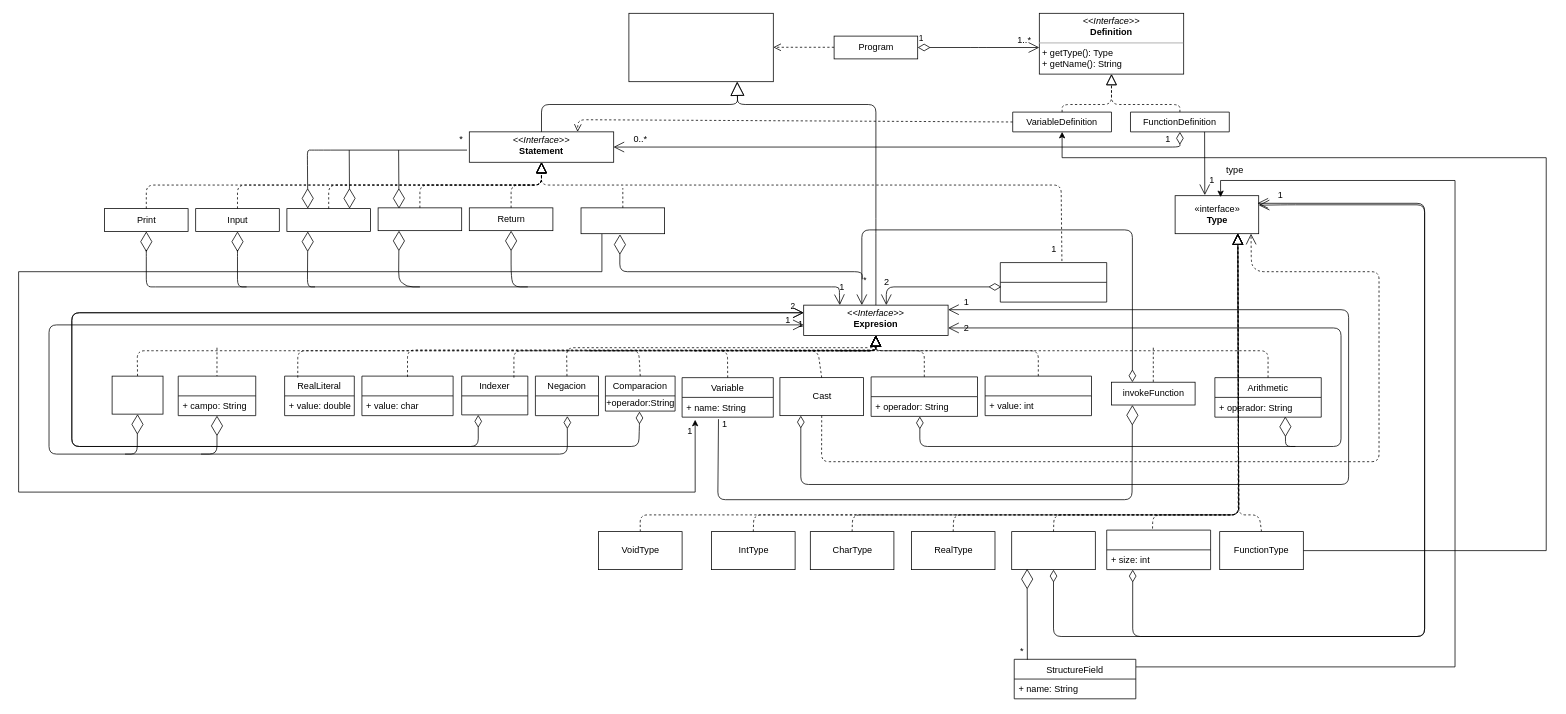
The diagram is 1566 pixels wide and 714 high, and some of its shapes have lost their labels. Here are the shapes that lost their labels. From the top down, the box of each, then its label:
(628, 13, 773, 82): <<Interface>> ASTNode + getLine(): int + getColumn(): int
(286, 208, 370, 231): if-else
(377, 207, 462, 231): While
(580, 207, 665, 234): CallProcedure
(1000, 262, 1107, 302): Assigment
(111, 375, 163, 414): UnaryMinus
(177, 375, 256, 416): AccesoCampo
(361, 375, 453, 416): CharLiteral
(870, 376, 978, 416): Logic
(984, 375, 1092, 416): IntLiteral
(1011, 531, 1095, 570): StructureType
(1106, 529, 1211, 570): Array
